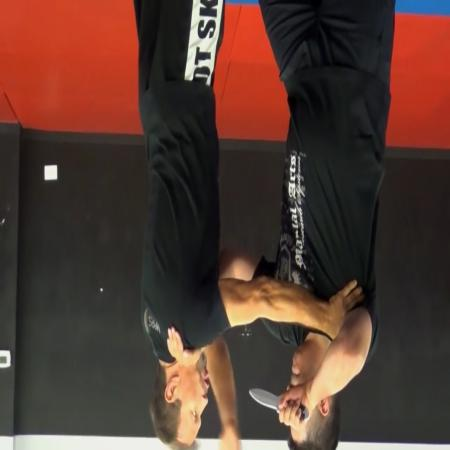long weapon: (247, 380, 313, 432)
